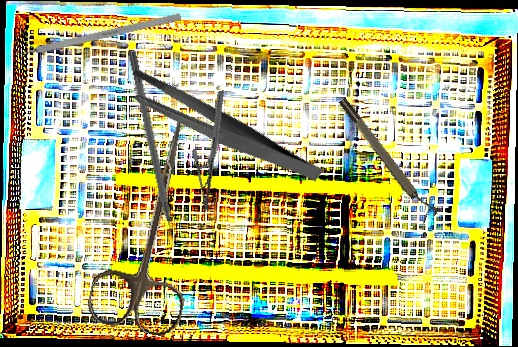Dressing Forceps: (121, 32, 324, 225)
Fixation Ring: (336, 92, 440, 224)
Hook Surgical: (2, 12, 182, 62)
Iris Scissors: (84, 106, 222, 340)
Needle Holder: (163, 89, 264, 214)
Pusher: (125, 51, 180, 254)
